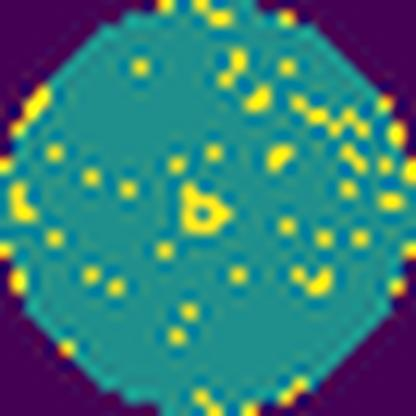Center: (174, 174, 238, 243)
